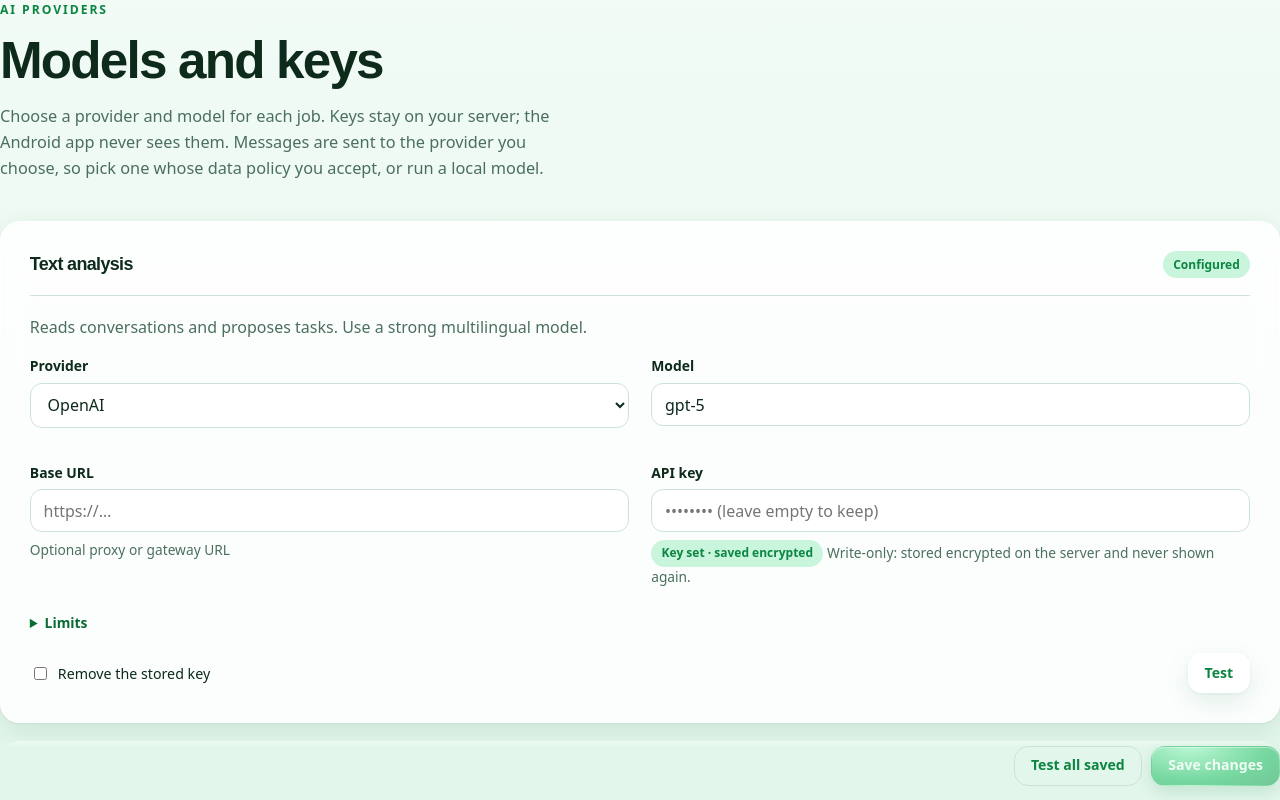
Providers › warns before a base URL change drops the stored key
In the field labelled "Base URL": (329, 511) [30,489,629,532], type "https://gateway.example/v1"
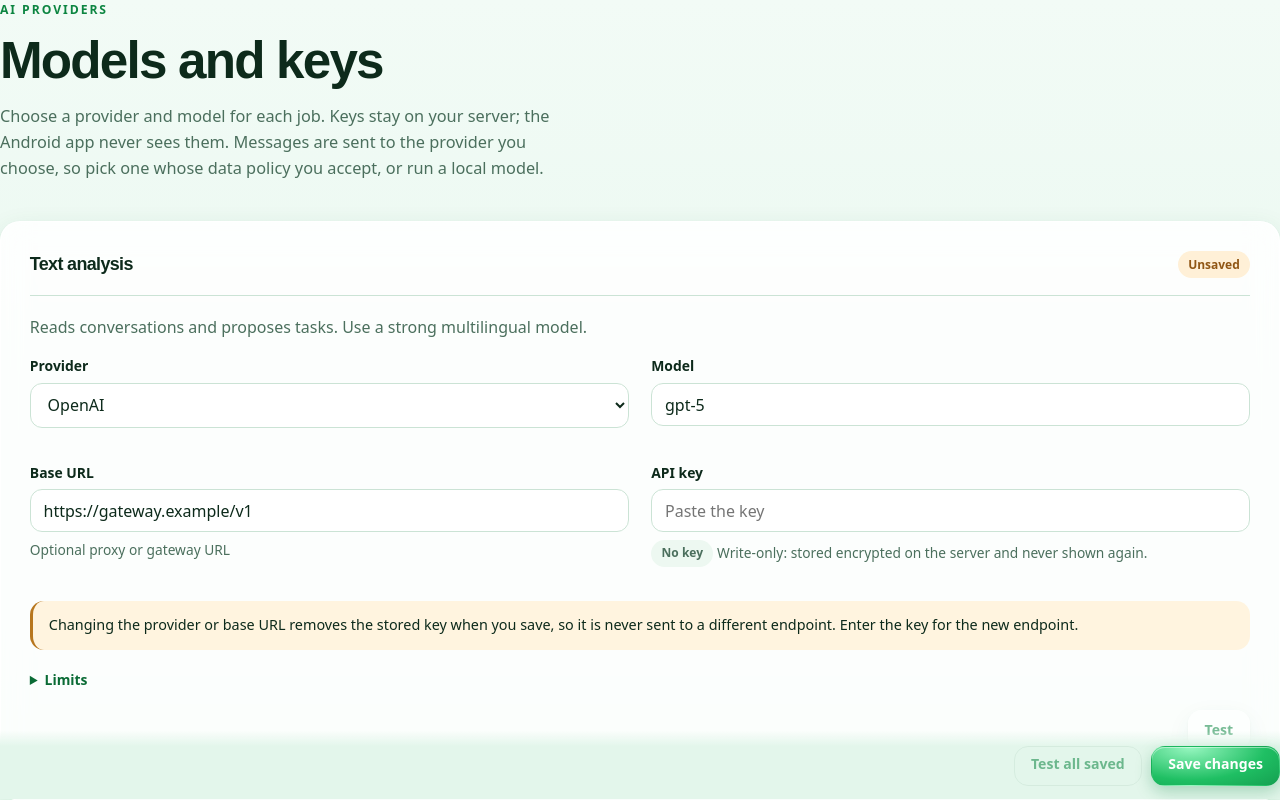
Now the text "removes the stored key" is shown, box [49,615,1078,634]
